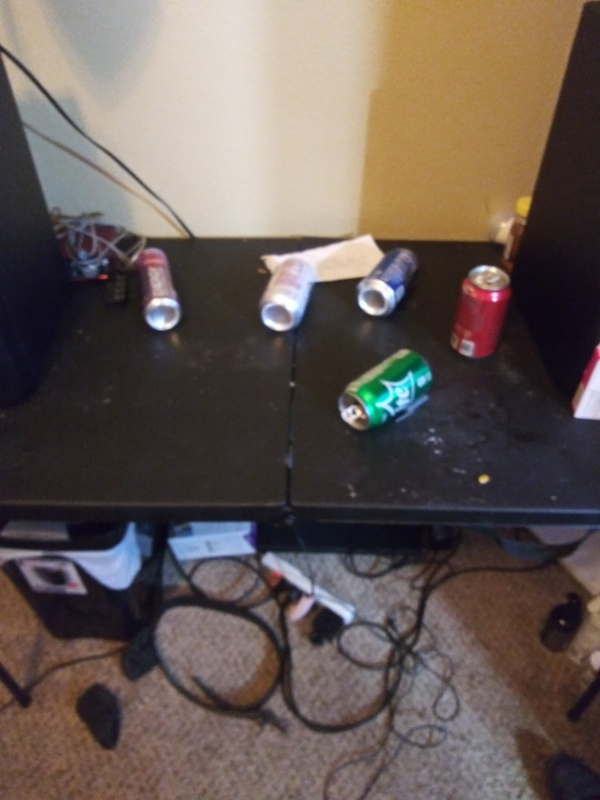can: (334, 347, 438, 434), (448, 264, 510, 362), (351, 245, 423, 320), (257, 251, 317, 335), (131, 244, 182, 337)
